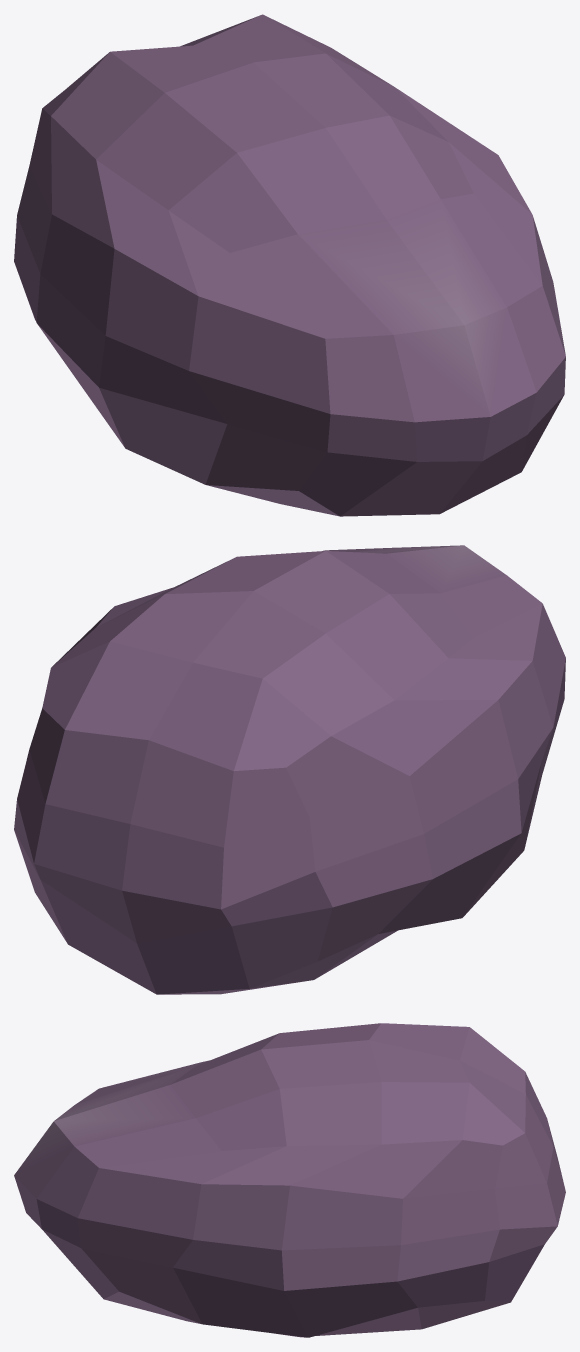
File: cerebro .fbx
3 views of the same model, one above another, from view 1: azimuth 30°, elevation 25°; view 2: azimuth 150°, elevation 25°; view 3: azimuth 270°, elevation 25° (orthographic). The views are drawn at different scales.
Visible parts, largest first — view 1: Cube; view 2: Cube; view 3: Cube.
Part boxes in pixels (x1,y1,x2,y2): Cube: (14, 14, 565, 516); Cube: (14, 545, 565, 994); Cube: (14, 1023, 565, 1337).
Size of the model in its own units: 102 by 90.28 by 154.
